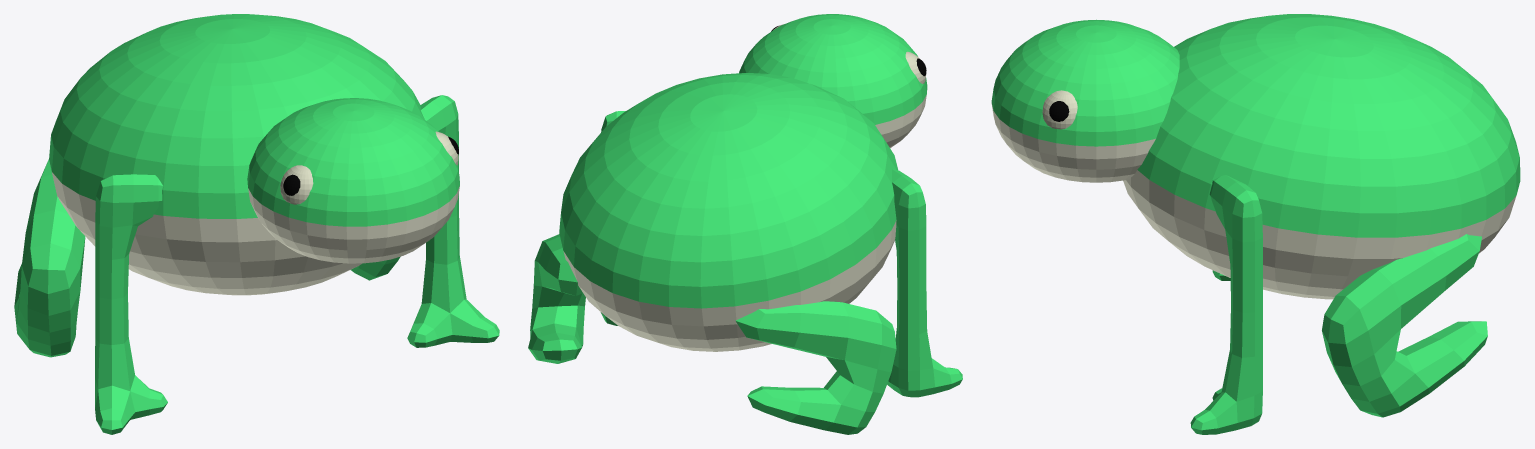
Rendered from player.obj.
The picture shows the model from 3 angles, left to right: view 1: azimuth 30°, elevation 25°; view 2: azimuth 150°, elevation 25°; view 3: azimuth 270°, elevation 25°; orthographic projection. The views are drawn at different scales.
Parts seen in each view (by area): view 1: 立方体.001; view 2: 立方体.001; view 3: 立方体.001.
Boxes of the visible parts, x1=… form: 立方体.001: x1=14, y1=14, x2=499, y2=434; 立方体.001: x1=528, y1=14, x2=962, y2=434; 立方体.001: x1=991, y1=14, x2=1520, y2=434.
Size of the model in its own units: 0.86 by 0.6561 by 1.
Materials: 1 (1 with a texture image).
